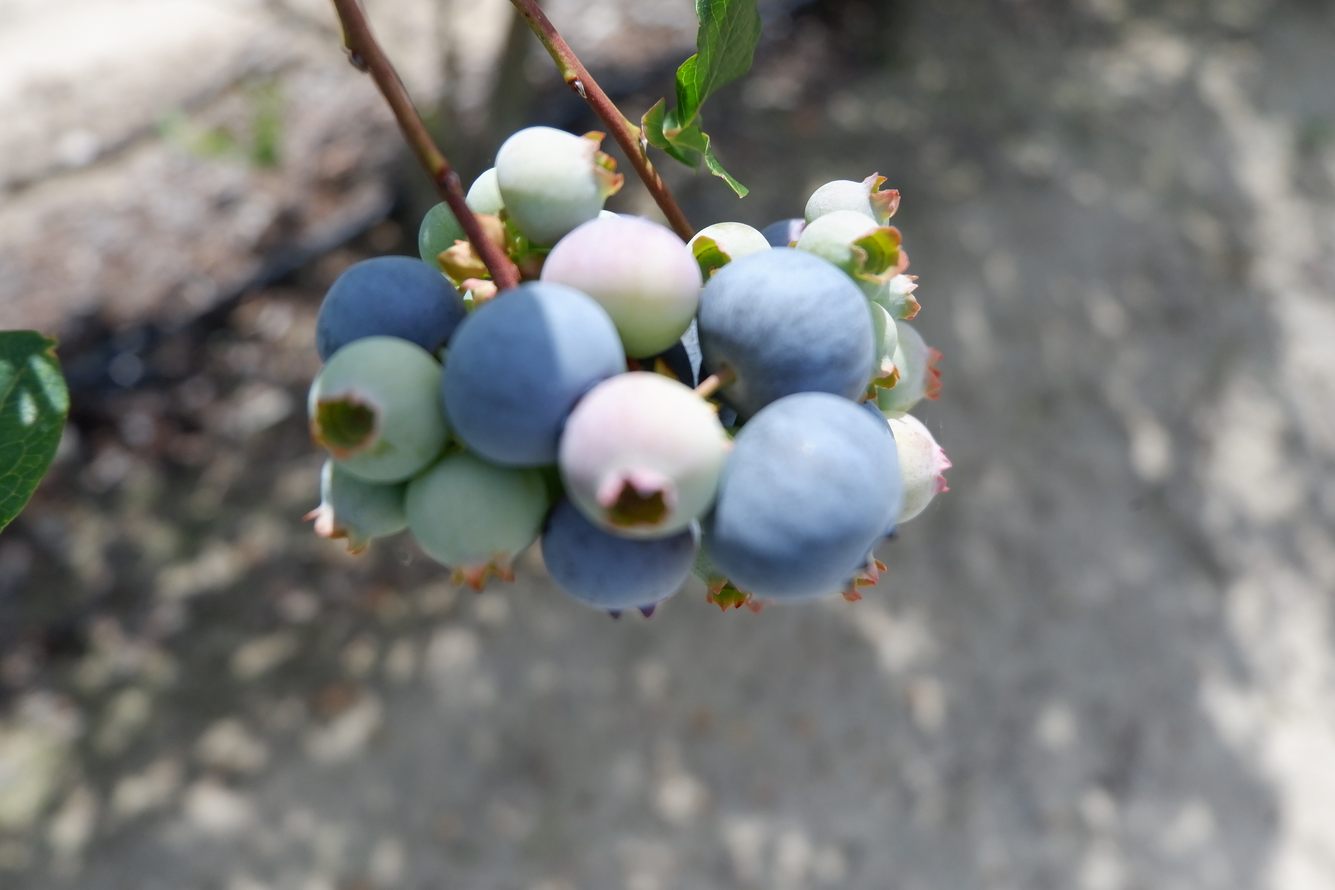Immature: (560, 376, 726, 535), (546, 217, 696, 353), (407, 445, 549, 586), (310, 342, 445, 480), (498, 129, 618, 245), (311, 459, 406, 553), (797, 211, 906, 290), (890, 416, 950, 521), (690, 517, 756, 612), (877, 320, 940, 411), (688, 223, 768, 284), (805, 175, 898, 224), (859, 300, 903, 403), (417, 200, 465, 270), (869, 273, 919, 318), (468, 170, 505, 216)
Mature: (711, 395, 898, 594), (441, 285, 626, 462), (699, 251, 874, 416), (541, 500, 698, 611), (315, 260, 459, 360), (653, 317, 701, 383), (762, 221, 806, 247)
